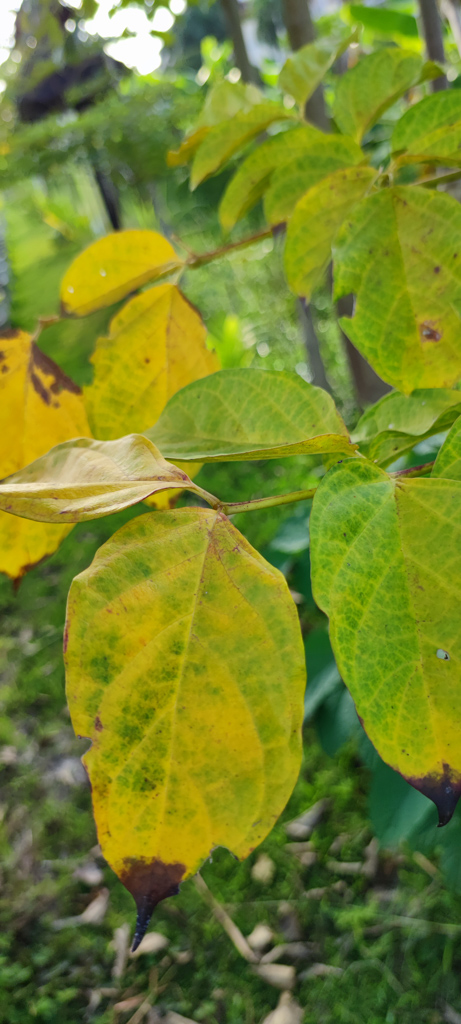Pepper yellow leaf: (61, 510, 308, 954), (4, 314, 108, 601), (375, 470, 460, 820), (93, 287, 221, 515), (4, 434, 213, 540), (47, 222, 193, 317)
